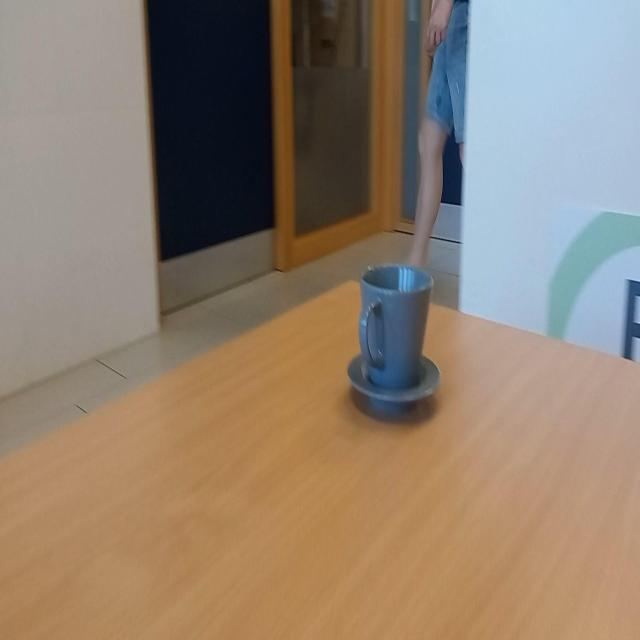cup: (344, 256, 449, 417)
